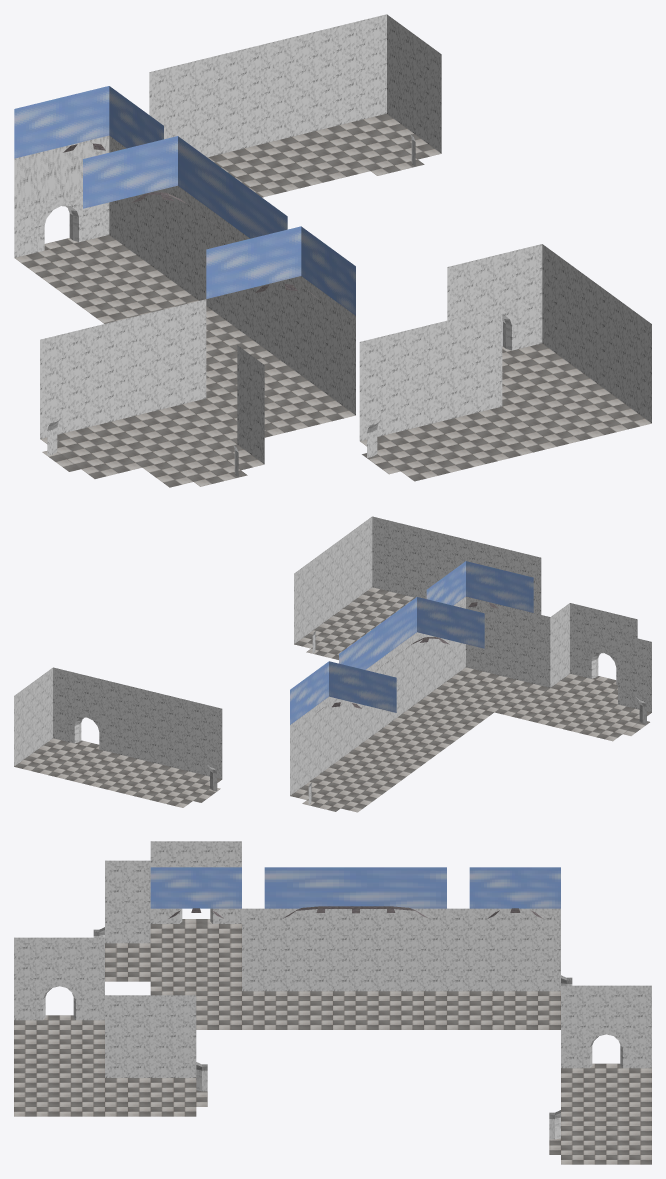
The model's file is Hallway2.glb.
3 renders of one model, top to bottom at view 1: azimuth 30°, elevation 25°; view 2: azimuth 150°, elevation 25°; view 3: azimuth 270°, elevation 25°, orthographic. The views are drawn at different scales.
Parts seen in each view (by area): view 1: Walls.001, Floor.001, Sky.001; view 2: Walls.001, Floor.001, Sky.001; view 3: Walls.001, Floor.001, Sky.001, Ceiling.001.
Part boxes in pixels (left/top/right/bottom): Walls.001: left=14, top=14, right=651, bottom=477; Floor.001: left=14, top=113, right=651, bottom=487; Sky.001: left=14, top=86, right=355, bottom=315; Walls.001: left=14, top=516, right=651, bottom=804; Floor.001: left=14, top=587, right=651, bottom=812; Sky.001: left=290, top=561, right=533, bottom=724; Walls.001: left=14, top=841, right=651, bottom=1139; Floor.001: left=14, top=919, right=651, bottom=1164; Sky.001: left=150, top=867, right=560, bottom=908; Ceiling.001: left=168, top=906, right=542, bottom=918.
Size of the model in its own units: 25.5 by 6 by 28.
4 materials, 4 textured.
